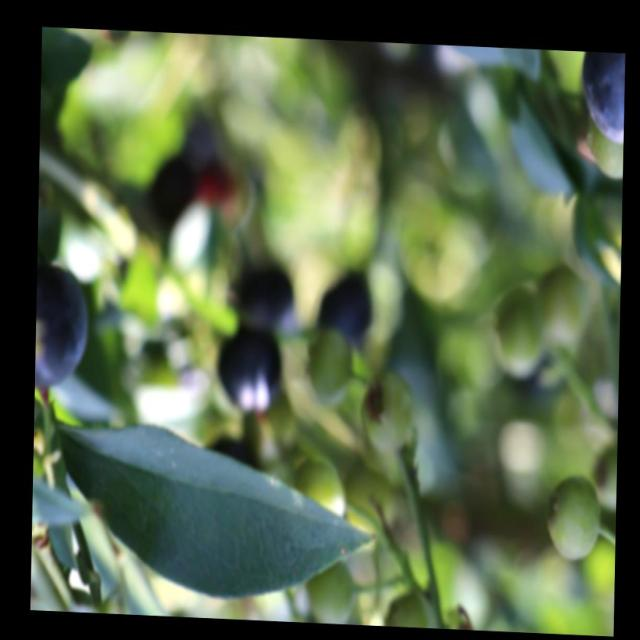blueberry: (34, 267, 89, 397), (212, 331, 284, 417), (314, 265, 370, 351), (233, 263, 294, 334)
blueberry-unripe: (549, 475, 602, 560), (495, 292, 544, 376), (364, 370, 416, 448), (294, 453, 345, 523)
